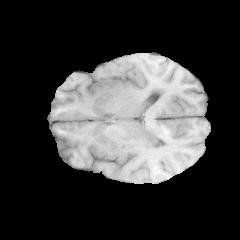glioma: (96, 118, 168, 160)
